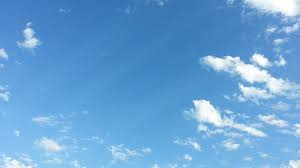sky: (2, 1, 300, 166)
